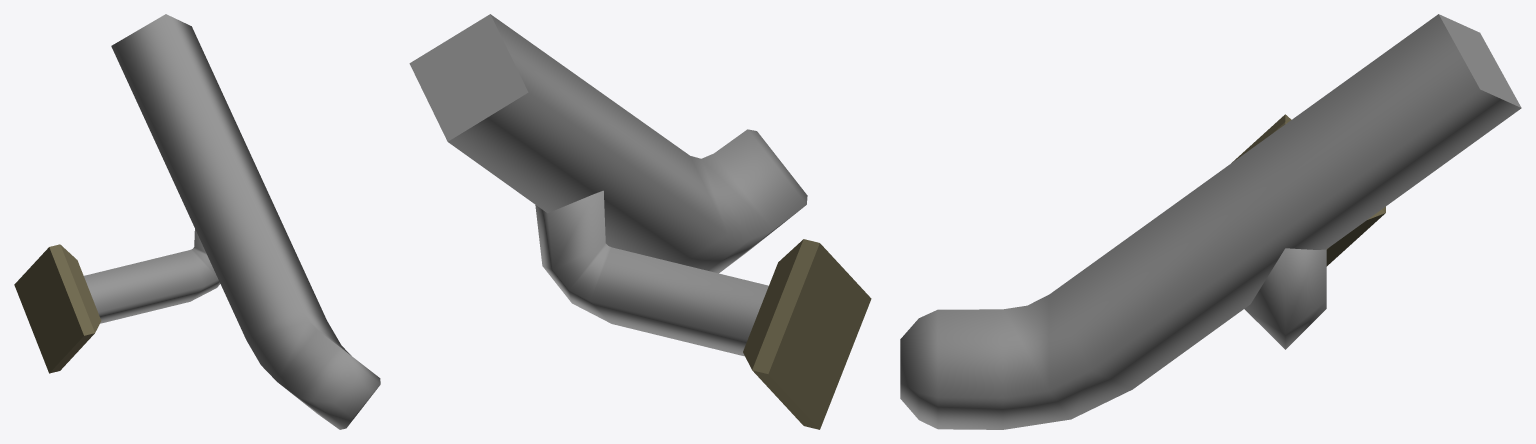
The model's file is SW_ENV_Railing_StairWall_Base.fbx.
3 renders of one model, left to right at view 1: azimuth 30°, elevation 25°; view 2: azimuth 150°, elevation 25°; view 3: azimuth 270°, elevation 25°, orthographic. The views are drawn at different scales.
Visible parts, largest first — view 1: SW_ENV_Railing_StairWall_Base; view 2: SW_ENV_Railing_StairWall_Base; view 3: SW_ENV_Railing_StairWall_Base.
Part boxes in pixels (bbox=[...]): SW_ENV_Railing_StairWall_Base: bbox=[14, 14, 380, 429]; SW_ENV_Railing_StairWall_Base: bbox=[409, 14, 871, 429]; SW_ENV_Railing_StairWall_Base: bbox=[900, 14, 1521, 429].
Bounding box in the file's own units: 0.1856 × 0.2438 × 0.3301.
